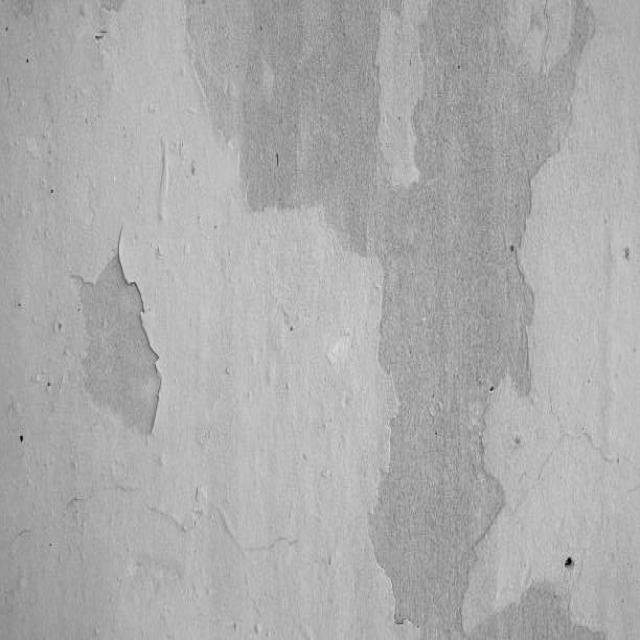peeling paint: (57, 0, 629, 640)
